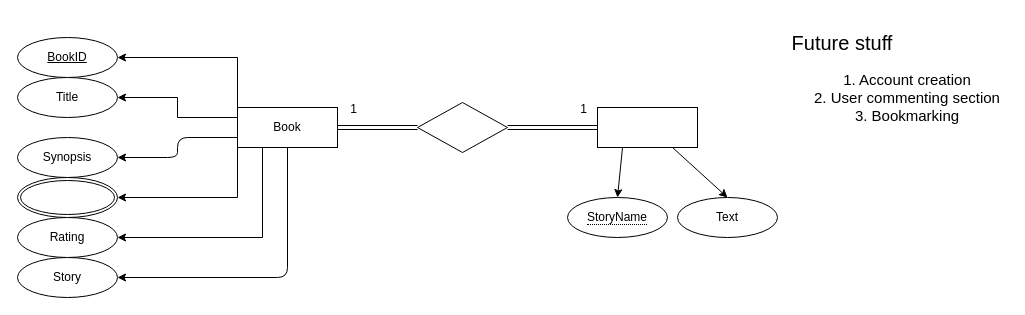
The diagram is 1025 pixels wide and 315 high, and some of its shapes have lost their labels. Here are the shapes that lost their labels. From the top down, the centre of each, then its label:
the point at 462,127: have
the point at 647,127: Stories
the point at 67,197: Genres
